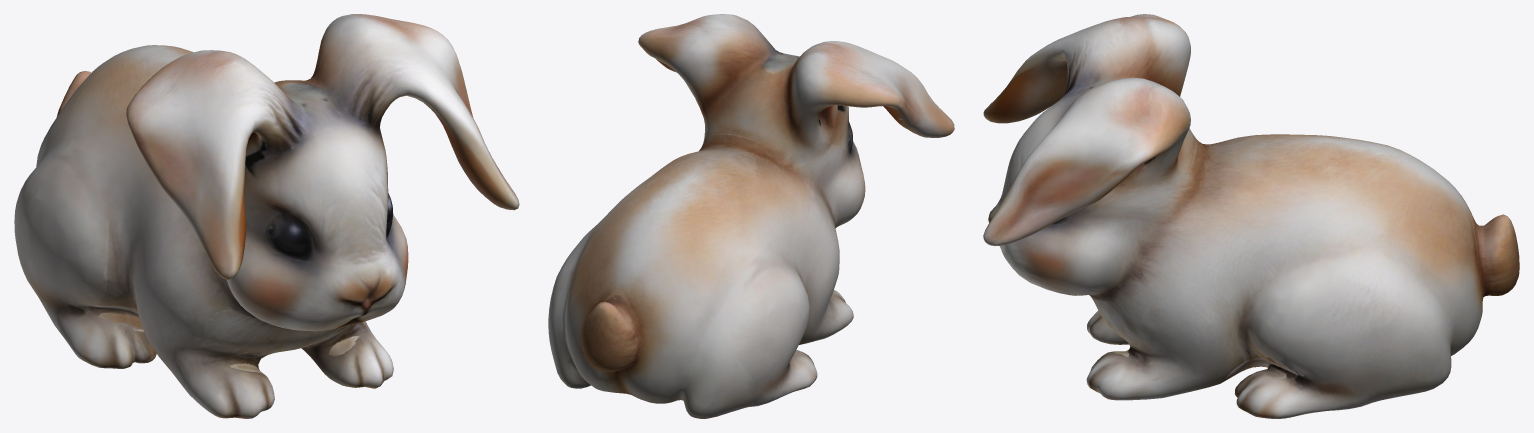
Rendered from bunny.glb.
3 renders of one model, left to right at view 1: azimuth 30°, elevation 25°; view 2: azimuth 150°, elevation 25°; view 3: azimuth 270°, elevation 25°, orthographic. The views are drawn at different scales.
Visible parts, largest first — view 1: Mesh1; view 2: Mesh1; view 3: Mesh1.
Part boxes in pixels (x1,y1,x2,y2): Mesh1: (14,14,519,418); Mesh1: (548,14,954,418); Mesh1: (983,14,1519,418).
Bounding box in the file's own units: 1.24 × 1.29 × 2.
1 material, 1 textured.
